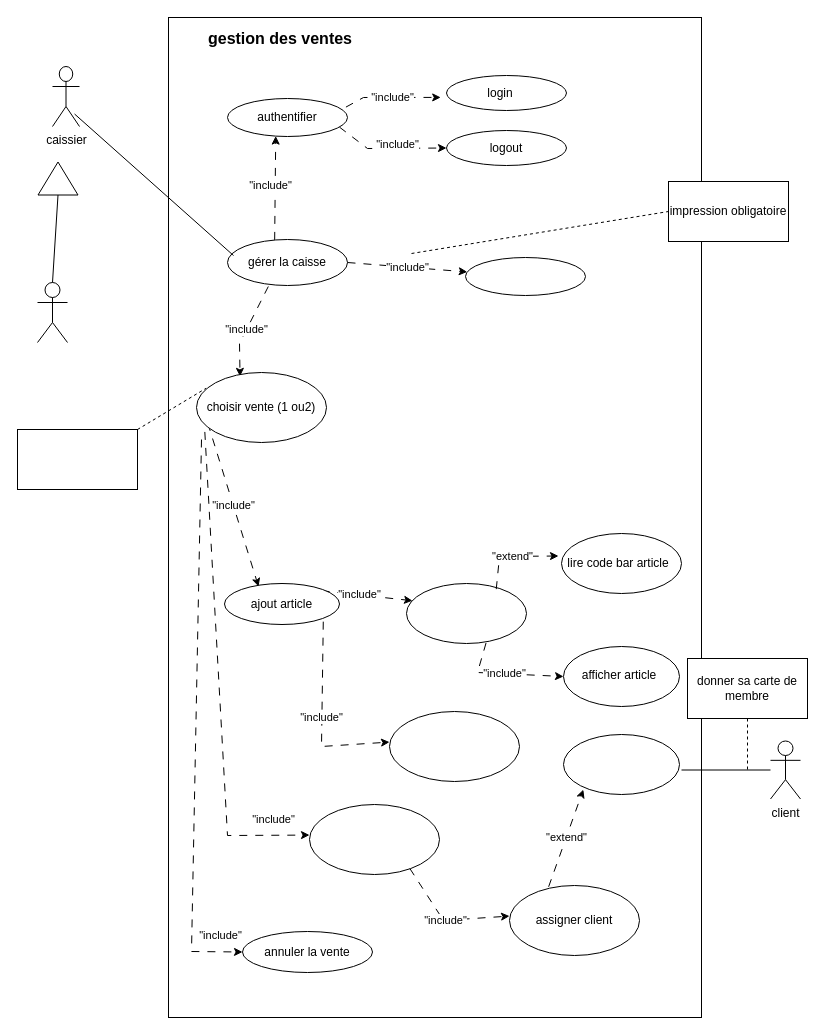
The diagram is 825 pixels wide and 1035 high, and some of its shapes have lost their labels. Each missing label, with the box of its shape:
choisir article: (406, 582, 526, 644)
encaisser la vente: (308, 804, 440, 874)
gérer les impressions: (464, 256, 586, 296)
modifier quantité article: (388, 710, 520, 782)
responsable: (36, 282, 68, 342)
scanner client: (562, 734, 680, 794)
système de 2 ventes simultanées: (16, 428, 138, 490)
